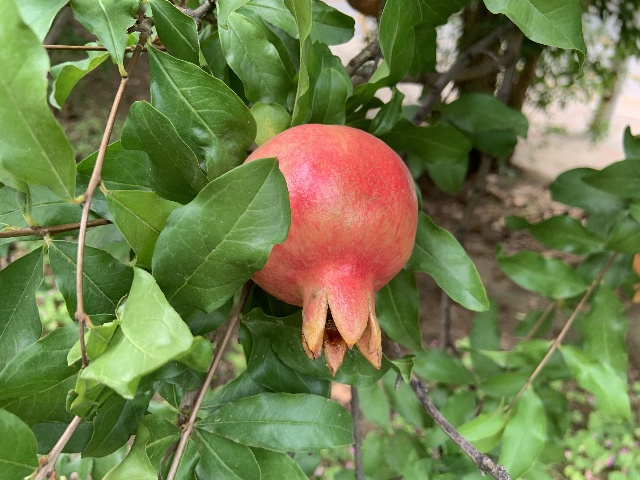ripe: (232, 122, 417, 372)
